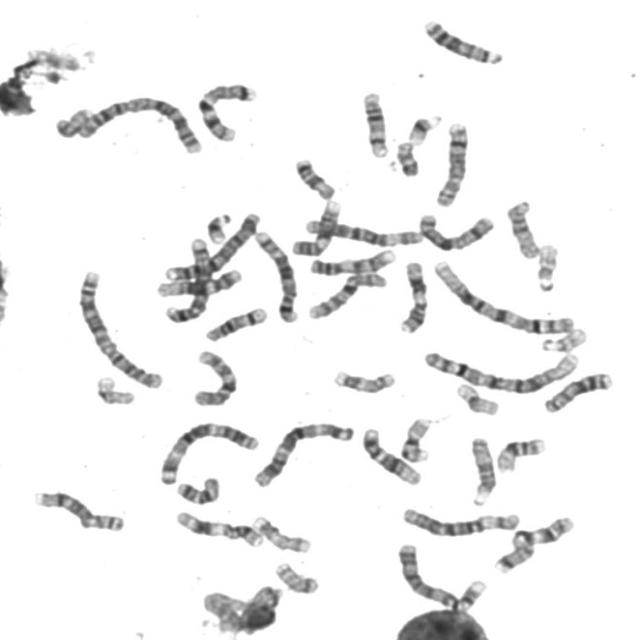A1: (428, 255, 578, 336), (418, 343, 582, 396)
A2: (72, 264, 166, 390), (70, 90, 207, 154)
A3: (247, 416, 356, 489), (153, 416, 262, 486)
B4: (157, 206, 265, 282), (396, 543, 486, 611)
B5: (250, 224, 302, 324), (160, 232, 214, 324)
C10: (302, 267, 389, 321), (188, 344, 240, 408)
C11: (170, 506, 267, 548), (394, 255, 430, 336)
C12: (357, 422, 423, 486), (150, 263, 245, 298)
C6: (395, 502, 523, 539), (298, 214, 426, 248)
C7: (489, 511, 577, 575), (192, 77, 259, 144)
C8: (27, 484, 127, 534), (430, 117, 472, 208)
C9: (285, 195, 344, 256), (304, 244, 398, 276)
D13: (418, 13, 506, 66), (538, 367, 615, 414)
D14: (200, 302, 270, 343), (356, 86, 392, 159)
D15: (501, 194, 543, 260), (464, 431, 499, 507)
E16: (491, 432, 548, 473), (394, 412, 435, 464)
E17: (248, 510, 314, 556), (328, 364, 398, 395)
E18: (289, 152, 337, 200), (171, 472, 222, 506)
F19: (449, 377, 502, 417), (90, 370, 137, 407)
F20: (269, 557, 321, 595), (49, 102, 93, 140)
G21: (401, 108, 445, 146), (200, 208, 233, 244)
G22: (530, 238, 562, 294), (536, 323, 590, 353)
X: (413, 206, 498, 253)
Y: (391, 136, 422, 178)
